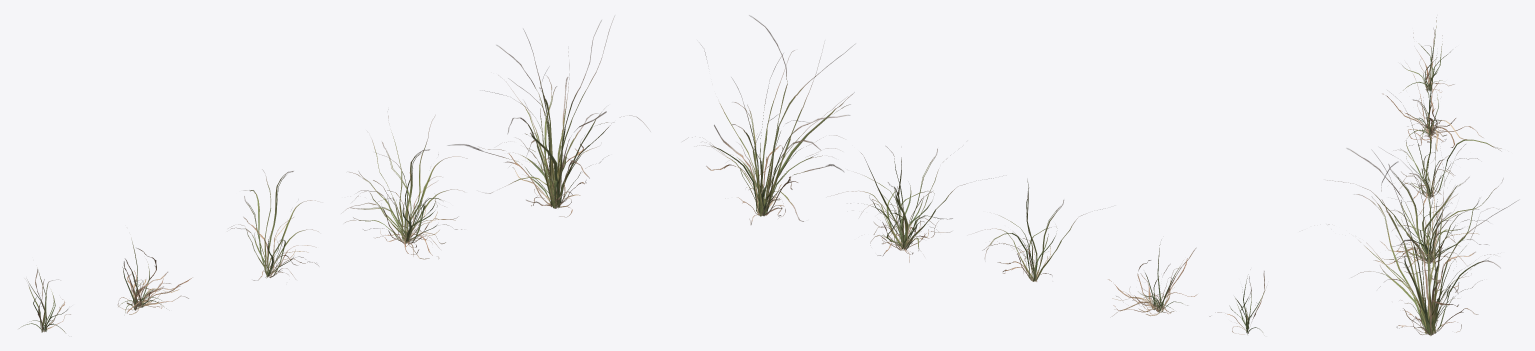
Rendered from grass_medium_02.gltf.
The picture shows the model from 3 angles, left to right: view 1: azimuth 30°, elevation 25°; view 2: azimuth 150°, elevation 25°; view 3: azimuth 270°, elevation 25°; orthographic projection. The views are drawn at different scales.
Visible parts, largest first — view 1: grass_medium_02_e, grass_medium_02_d, grass_medium_02_c, grass_medium_02_b, grass_medium_02_a; view 2: grass_medium_02_e, grass_medium_02_d, grass_medium_02_c, grass_medium_02_b, grass_medium_02_a; view 3: grass_medium_02_e, grass_medium_02_d, grass_medium_02_c, grass_medium_02_b, grass_medium_02_a.
Part boxes in pixels (<box>): grass_medium_02_e: <box>448,16,648,217</box>; grass_medium_02_d: <box>345,115,467,259</box>; grass_medium_02_c: <box>228,169,318,280</box>; grass_medium_02_b: <box>117,238,192,314</box>; grass_medium_02_a: <box>19,269,70,332</box>; grass_medium_02_e: <box>684,15,854,224</box>; grass_medium_02_d: <box>831,146,993,262</box>; grass_medium_02_c: <box>975,179,1100,281</box>; grass_medium_02_b: <box>1108,244,1197,316</box>; grass_medium_02_a: <box>1209,271,1265,334</box>; grass_medium_02_e: <box>1328,148,1518,335</box>; grass_medium_02_d: <box>1327,144,1503,274</box>; grass_medium_02_c: <box>1391,93,1501,215</box>; grass_medium_02_b: <box>1382,55,1482,151</box>; grass_medium_02_a: <box>1402,17,1454,92</box>.
Size of the model in its own units: 1.31 by 0.4053 by 0.4332.
1 material, 1 textured.
